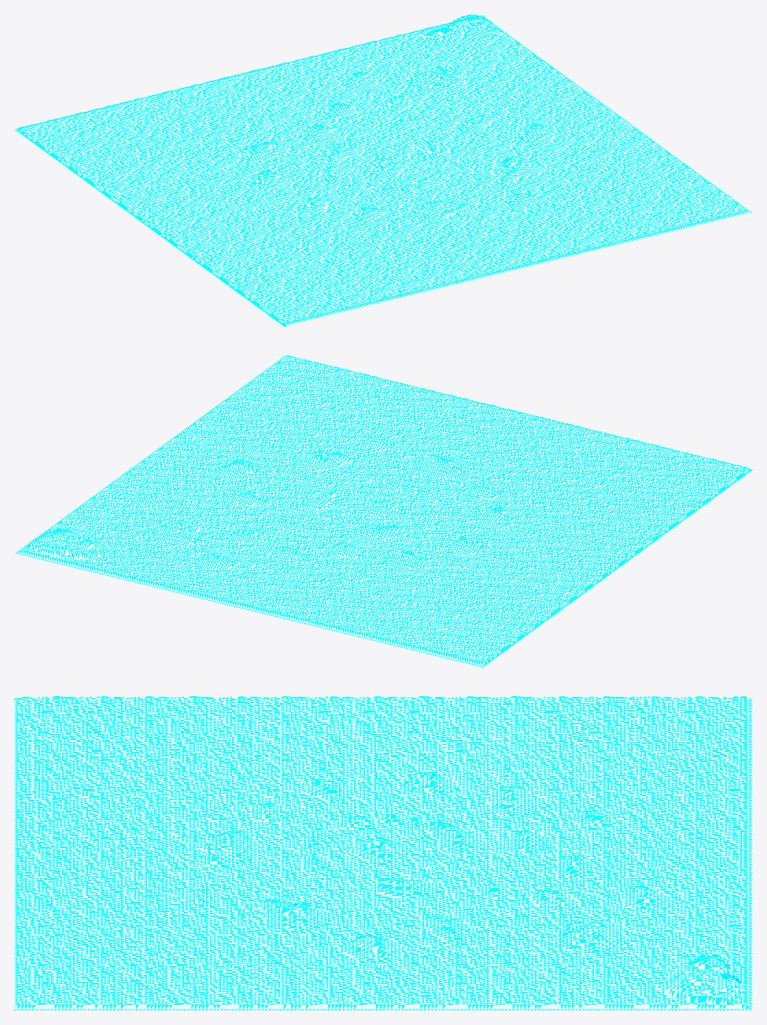
3 renders of one model, top to bottom at view 1: azimuth 30°, elevation 25°; view 2: azimuth 150°, elevation 25°; view 3: azimuth 270°, elevation 25°, orthographic. The views are drawn at different scales.
Parts seen in each view (by area): view 1: Terrain; view 2: Terrain; view 3: Terrain.
Part boxes in pixels (x1,y1,x2,y2): Terrain: [14, 14, 751, 326]; Terrain: [16, 355, 752, 667]; Terrain: [14, 696, 752, 1010].
Bounding box in the file's own units: 1793 × 49.68 × 1793.
